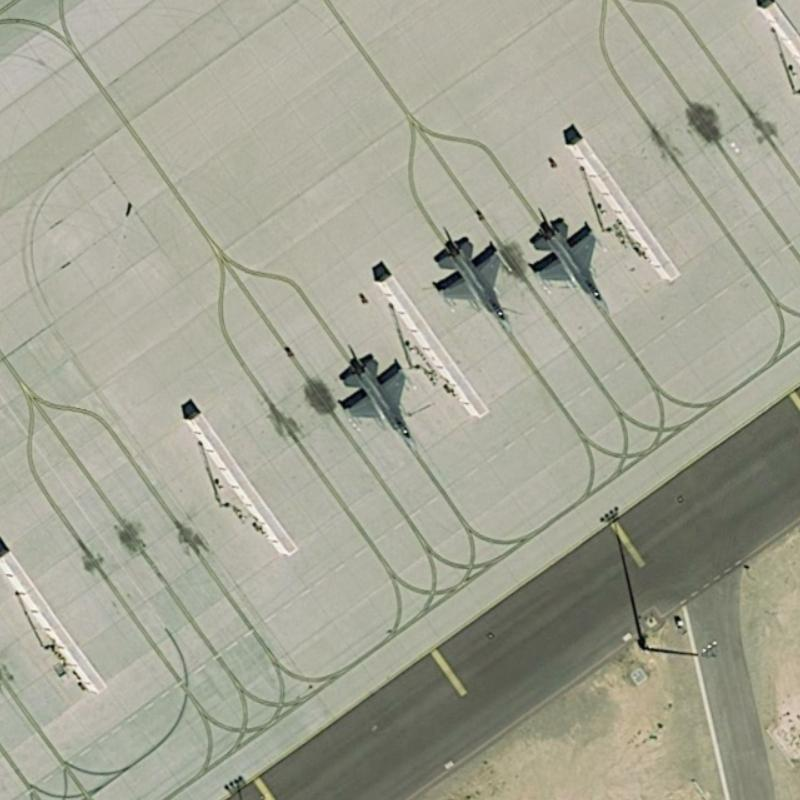A5: (332, 351, 422, 459), (427, 225, 511, 338), (526, 215, 614, 314)
